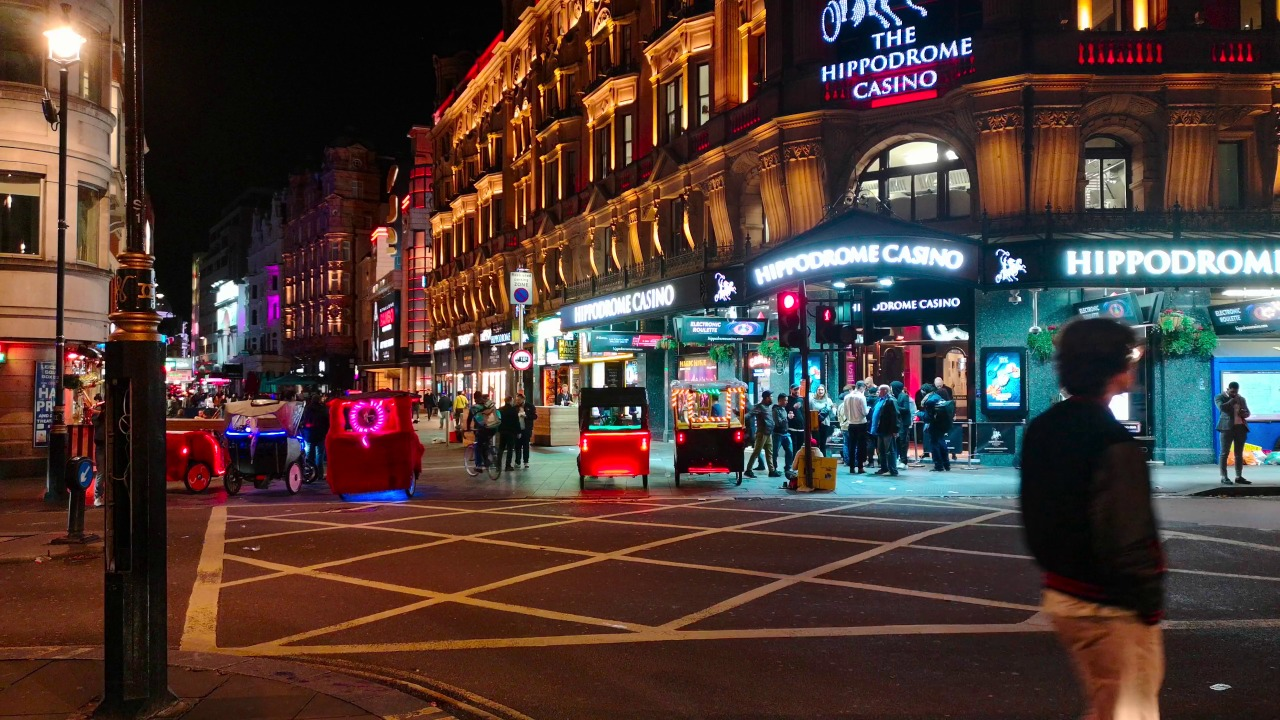car: (322, 395, 425, 497), (665, 379, 754, 491), (219, 394, 310, 499), (576, 380, 655, 492), (168, 418, 228, 499)
person: (1013, 315, 1182, 720), (1213, 371, 1255, 480), (460, 385, 506, 481), (741, 378, 779, 479), (918, 386, 956, 473), (783, 438, 826, 492), (809, 384, 838, 463), (874, 384, 899, 475), (739, 391, 764, 474), (513, 392, 537, 474), (771, 393, 794, 478), (848, 380, 869, 473), (496, 392, 518, 475), (892, 381, 912, 469), (786, 380, 810, 448), (836, 390, 848, 472), (931, 375, 955, 403), (453, 386, 468, 429), (704, 393, 727, 417), (434, 392, 450, 426), (405, 386, 420, 419), (421, 387, 436, 420), (556, 381, 571, 403), (860, 374, 874, 394)
